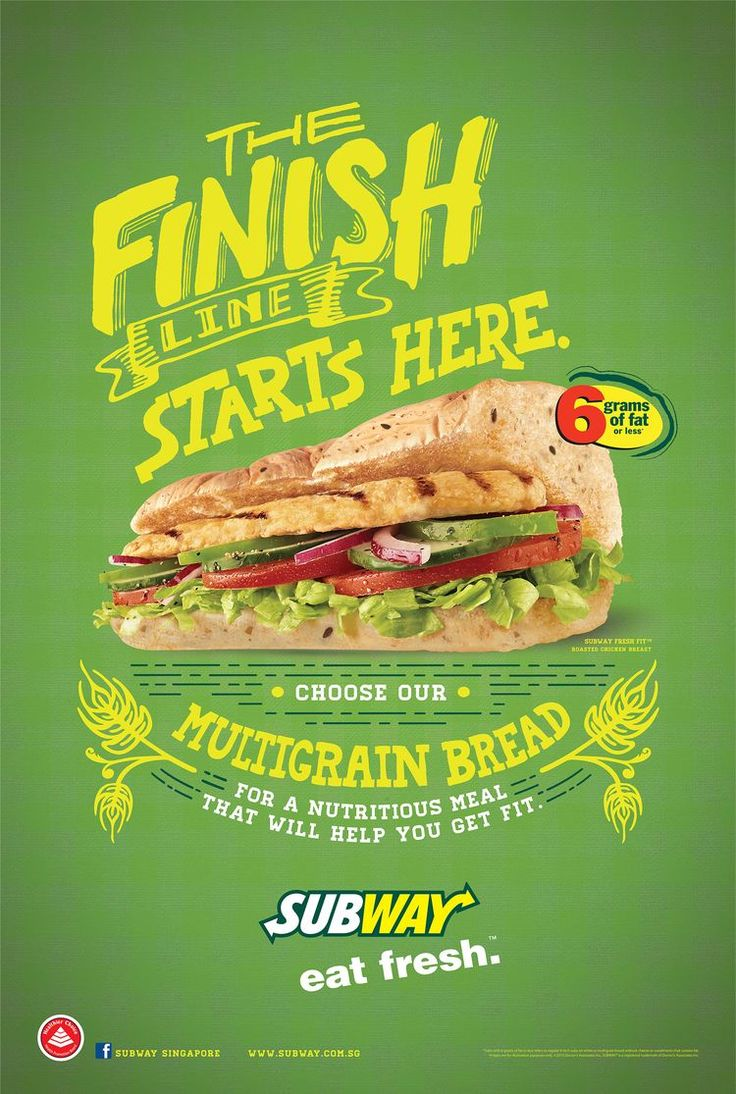Headline: (42, 36, 669, 520), (52, 650, 689, 882)
Product: (76, 321, 672, 649)
logo: (240, 884, 498, 937)
